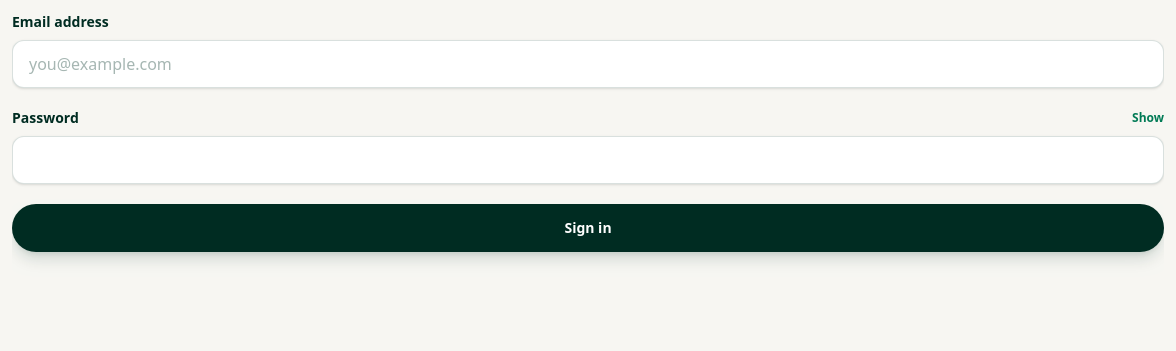
it: frontend authentication interface › displays a safe backend error for invalid credentials
This screenshot has width=1176, height=351.
Type "member@example.com" into the field labelled "Email address" at (588, 64), box [12,40,1164,88]
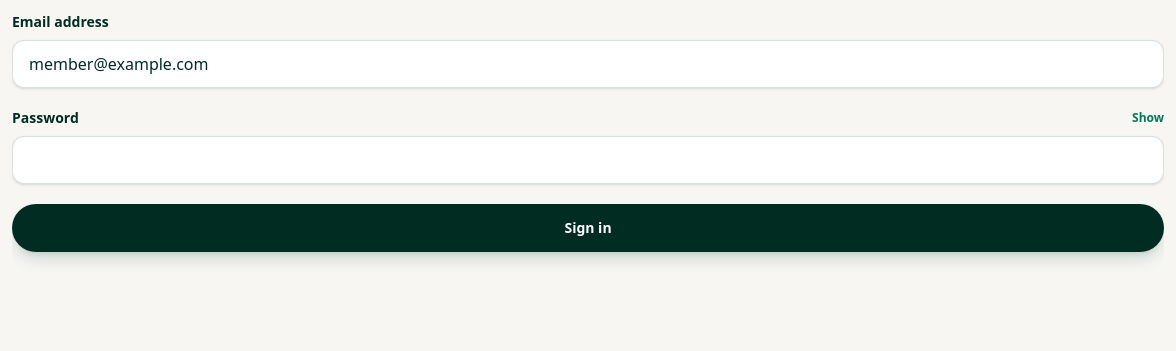
Type "Incorrect-Password-42!" into the password field labelled "Password" at (588, 160), box [12,136,1164,184]
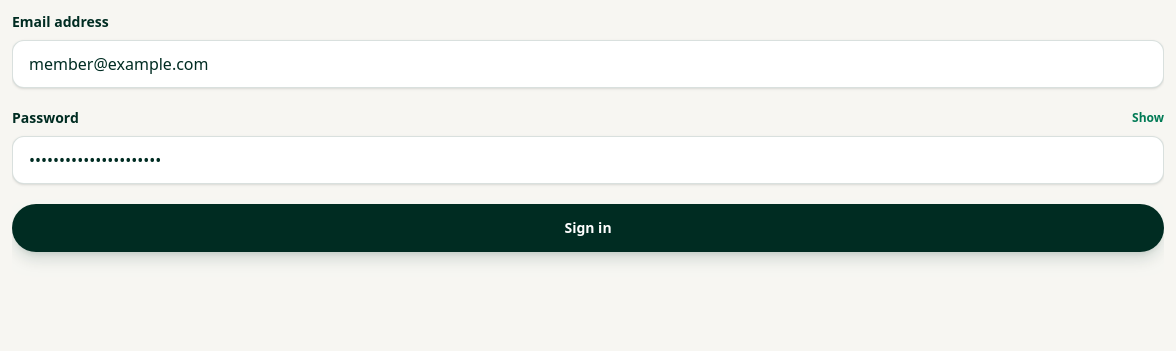
Click the button "Sign in" at (588, 228), box [12,204,1164,252]
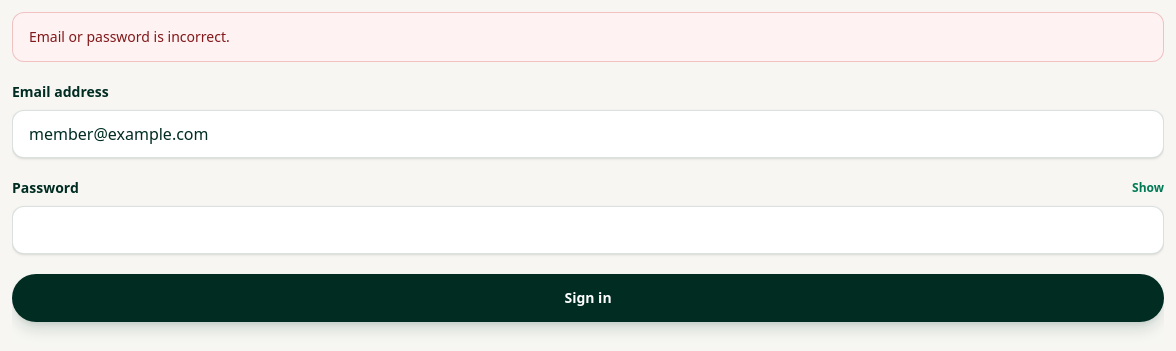
Check: the message reads "Email or password is incorrect.", box [29,27,230,46]
